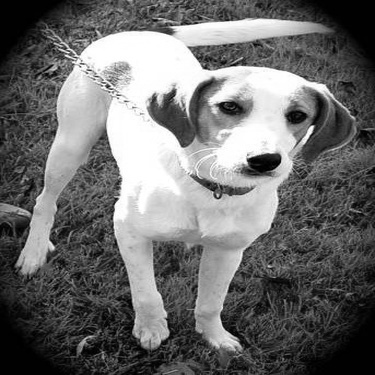dog: (6, 21, 360, 358)
